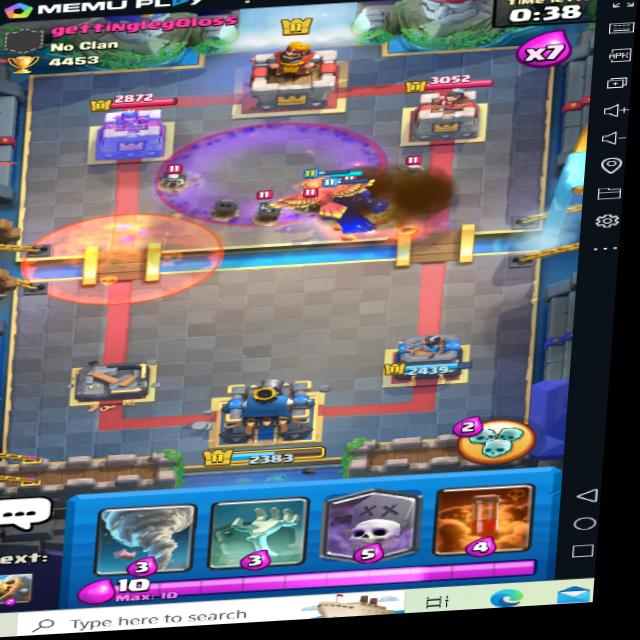graveyard: (157, 104, 395, 236)
poison: (24, 198, 224, 311)
skeleton: (155, 160, 187, 193), (244, 188, 279, 214), (392, 156, 431, 178)
